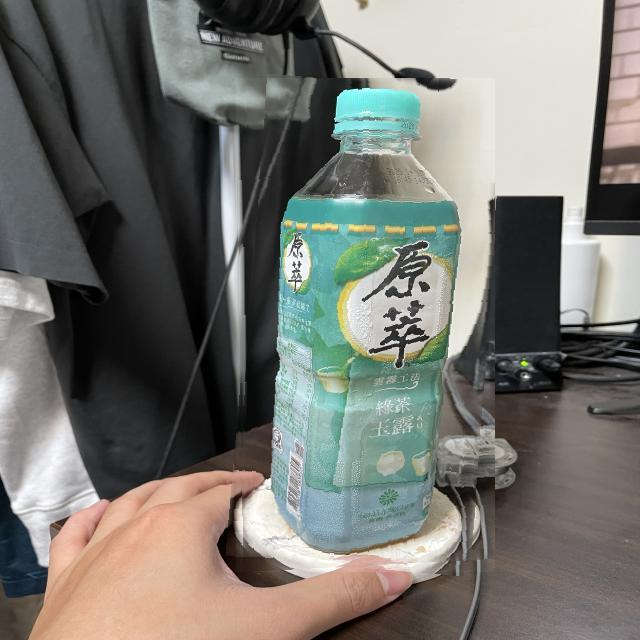YuanTsui_GreenTea: (236, 78, 495, 572)
